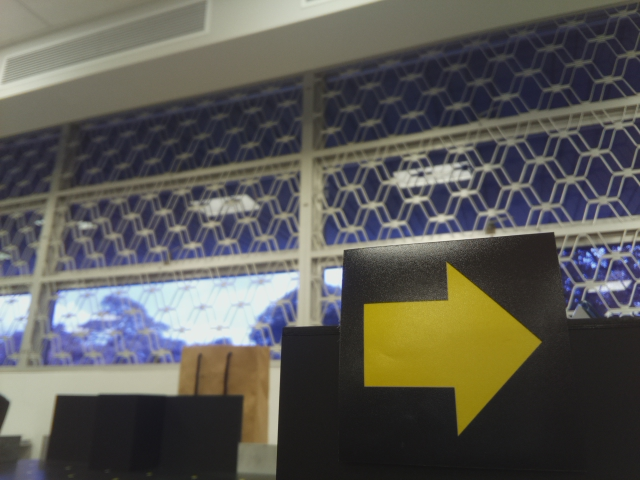right: (353, 251, 555, 438)
